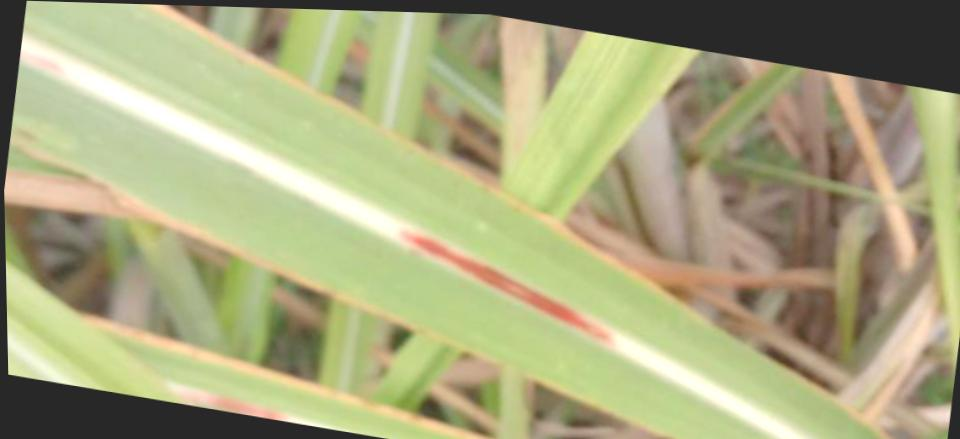RedRot: (396, 227, 616, 345), (177, 385, 292, 420), (20, 48, 66, 74)
